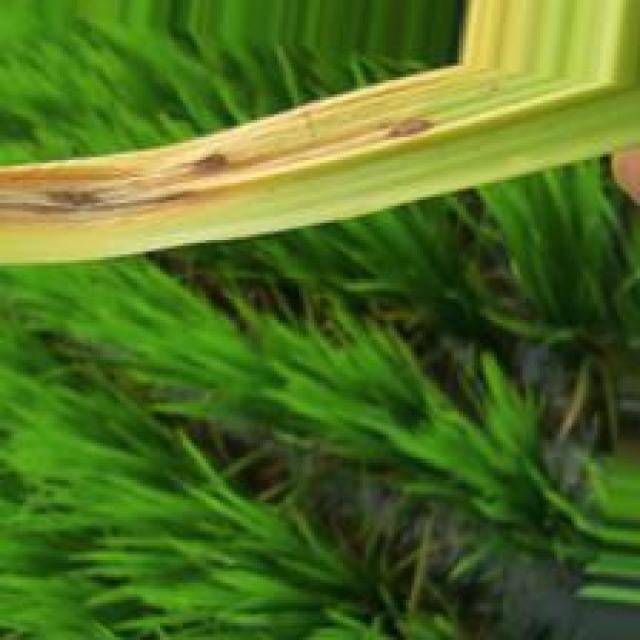Leaf_Blast: (0, 187, 109, 219), (175, 147, 234, 187), (379, 113, 440, 145)
